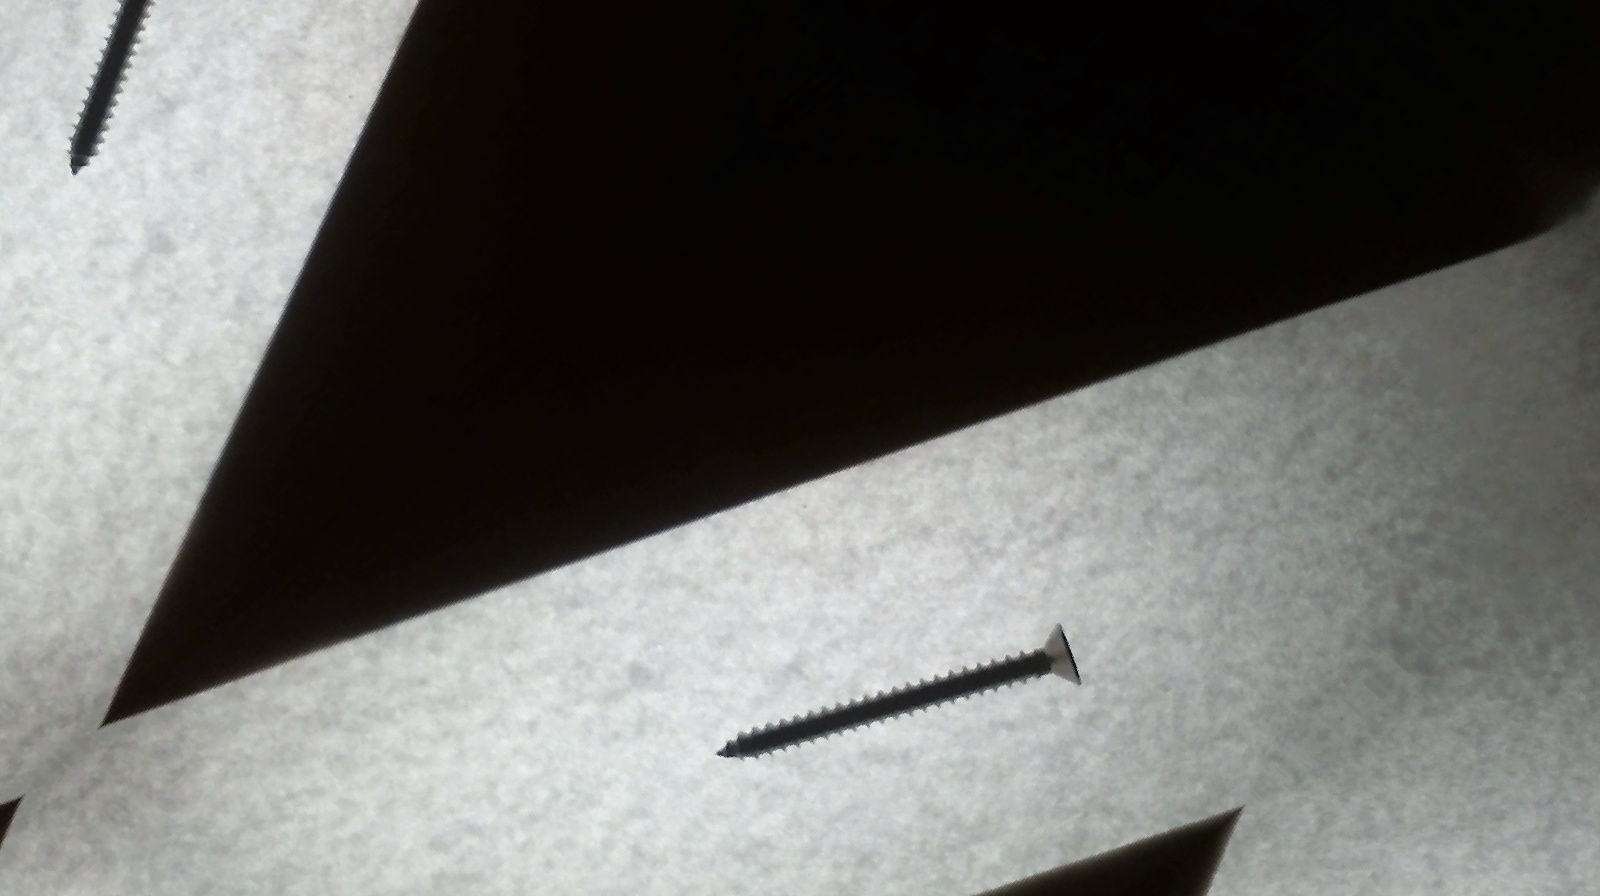S002: (662, 484, 1133, 895)
